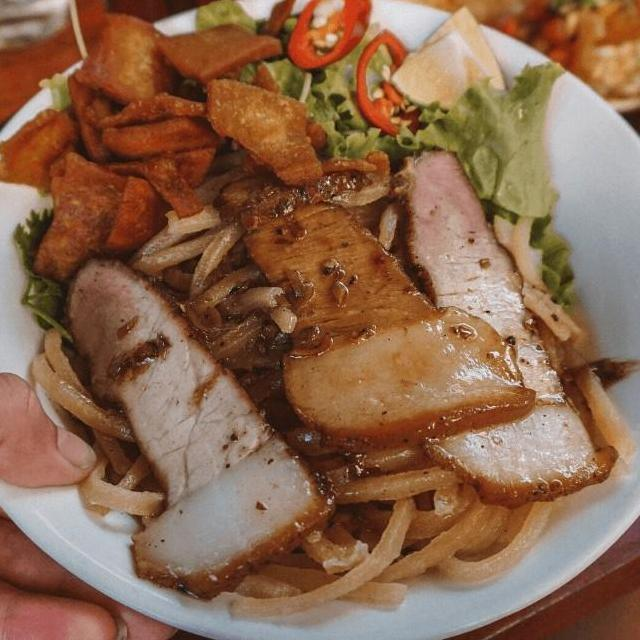banh da: (60, 68, 225, 220), (26, 140, 176, 286), (200, 72, 334, 190), (68, 7, 192, 106), (148, 18, 287, 94), (0, 102, 94, 201)
mi: (219, 432, 557, 630), (486, 203, 638, 460), (123, 200, 302, 410), (27, 321, 174, 528)
mi quang: (0, 58, 640, 640)
thit heo: (55, 250, 342, 608), (208, 162, 540, 454), (383, 142, 625, 510)
